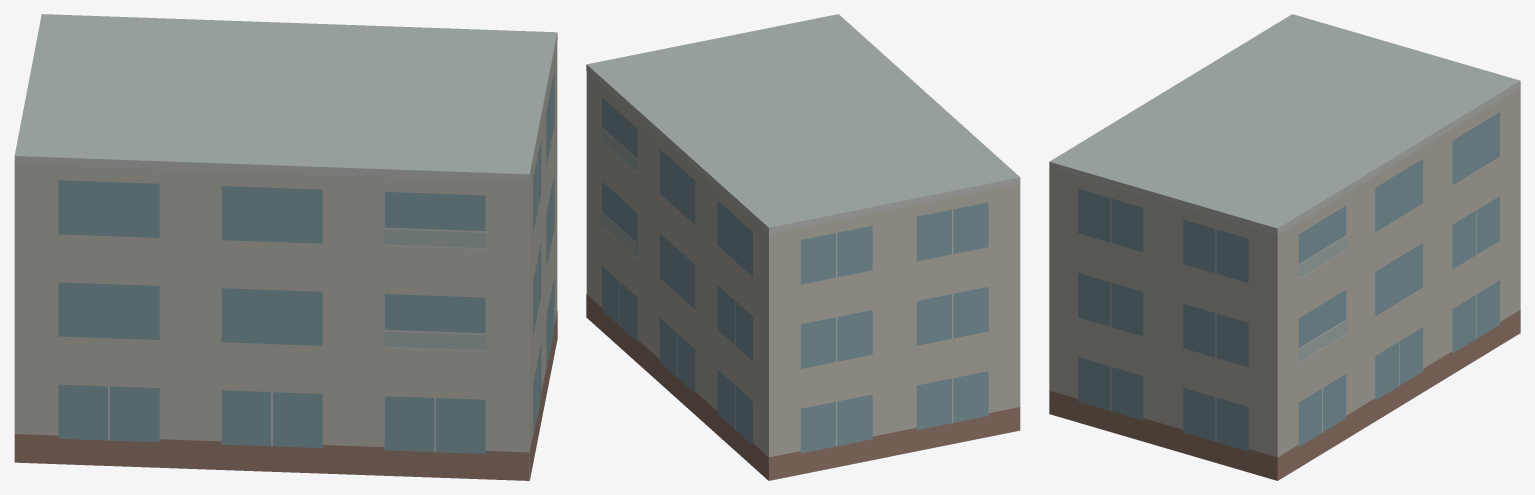
The model's file is survey-upis-32707476.glb.
3 views of the same model, side by side, from view 1: azimuth 30°, elevation 25°; view 2: azimuth 150°, elevation 25°; view 3: azimuth 270°, elevation 25° (orthographic). The views are drawn at different scales.
Parts seen in each view (by area): view 1: survey-upis-32707476.tmp; view 2: survey-upis-32707476.tmp; view 3: survey-upis-32707476.tmp.
Part boxes in pixels (bbox=[...]): survey-upis-32707476.tmp: bbox=[14, 14, 557, 480]; survey-upis-32707476.tmp: bbox=[586, 14, 1020, 480]; survey-upis-32707476.tmp: bbox=[1049, 14, 1520, 480].
Bounding box in the file's own units: 16.69 × 9.15 × 15.49.
